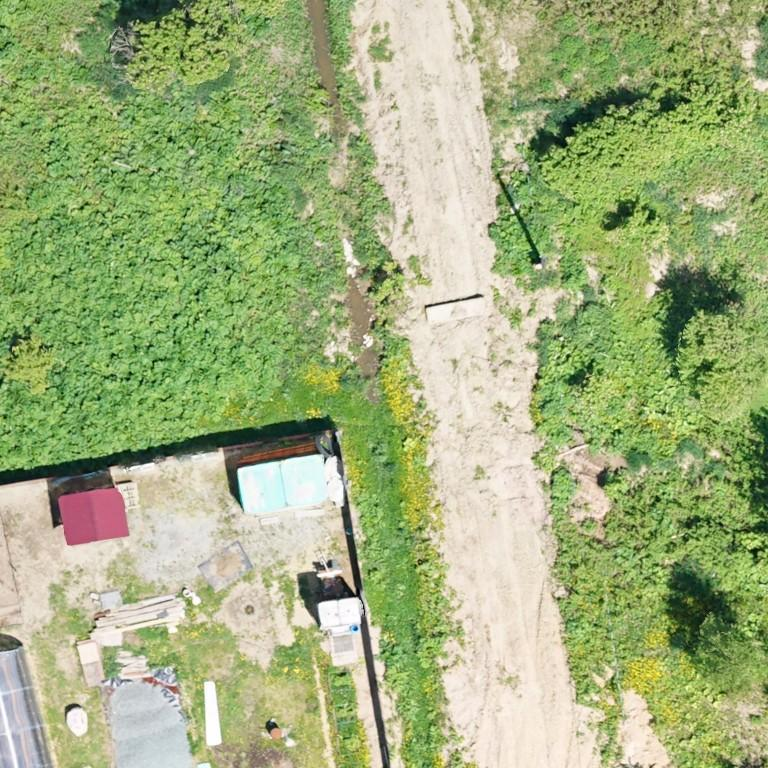hogweed: (0, 88, 340, 472), (357, 492, 383, 561), (381, 641, 409, 690)
